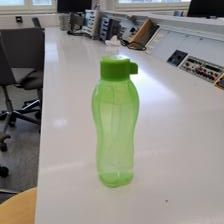bottle: (91, 52, 141, 189)
